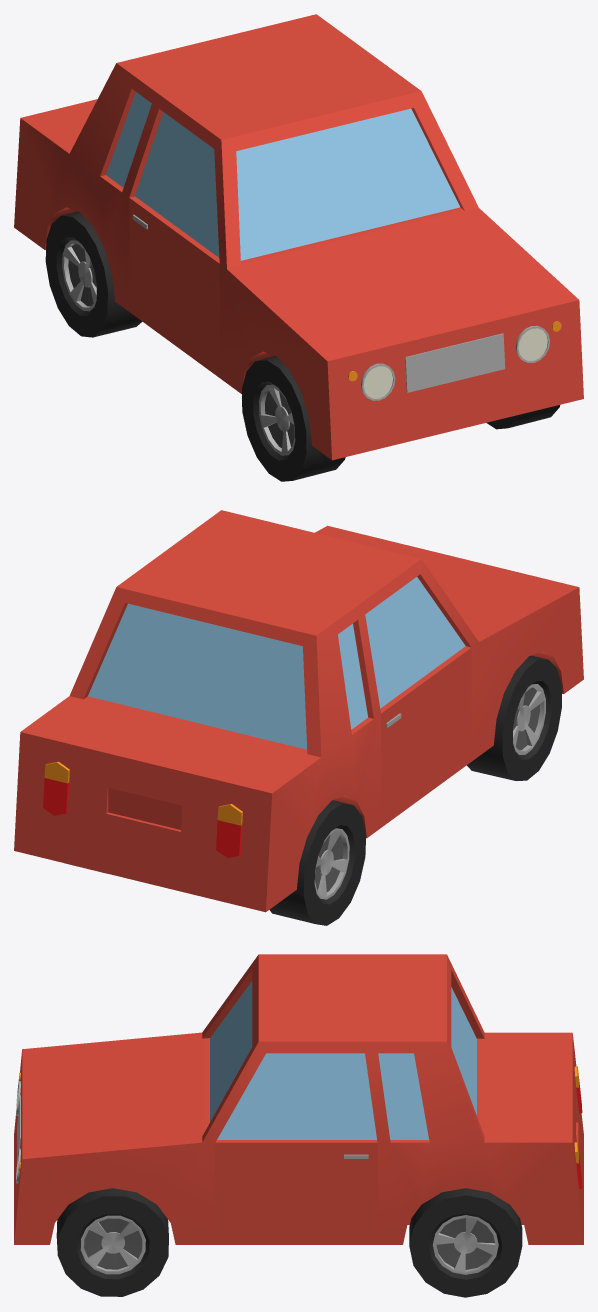
The model's file is CountyCar.fbx.
3 renders of one model, top to bottom at view 1: azimuth 30°, elevation 25°; view 2: azimuth 150°, elevation 25°; view 3: azimuth 270°, elevation 25°, orthographic. The views are drawn at different scales.
Visible parts, largest first — view 1: Body, car-normal-red.016, car-normal-red.014, car-normal-red.013, car-normal-red.015, car_trunk.001, car-normal-red.010; view 2: Body, car_trunk.001, car-normal-red.014, car-normal-red.015, car-normal-red.013, car-normal-red.016; view 3: Body, car-normal-red.012, car-normal-red.016, car-normal-red.011, car-normal-red.010, car_trunk.001.
Boxes of the visible parts, x1,y1,x2,y2 form: Body: (14,14,583,460); car-normal-red.016: (249,218,558,351); car-normal-red.014: (129,112,219,362); car-normal-red.013: (242,356,345,481); car-normal-red.015: (45,211,142,337); car_trunk.001: (35,99,97,142); car-normal-red.010: (486,405,560,429); Body: (14,510,583,912); car_trunk.001: (30,707,296,867); car-normal-red.014: (365,577,471,812); car-normal-red.015: (269,800,366,925); car-normal-red.013: (467,655,561,780); car-normal-red.016: (329,532,558,633); Body: (14,954,583,1244); car-normal-red.012: (215,1053,377,1231); car-normal-red.016: (34,1040,188,1151); car-normal-red.011: (409,1188,522,1297); car-normal-red.010: (56,1188,168,1296); car_trunk.001: (502,1038,582,1200).
Size of the model in its own units: 185 by 184 by 391.
